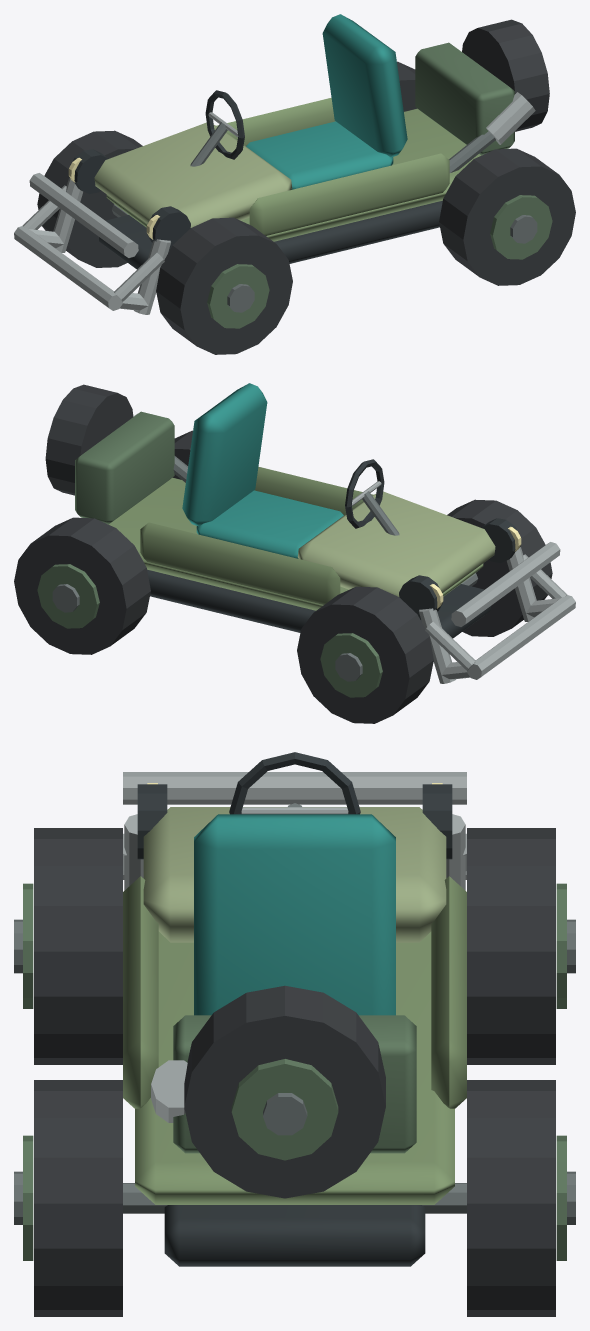
File: auto1.fbx
The picture shows the model from 3 angles, top to bottom: view 1: azimuth 30°, elevation 25°; view 2: azimuth 150°, elevation 25°; view 3: azimuth 270°, elevation 25°; orthographic projection. The views are drawn at different scales.
Visible parts, largest first — view 1: Capó frontal, Neumático trasera izquierda, Neumático delantera izquierda, Respaldo del asiento, Panel lateral izquierdo, Soporte trasero, Base del asiento, Chasis inferior, Neumático de repuesto, Neumático delantera derecha, Piso, Buje exterior delantera izquierda (+16 smaller); view 2: Capó frontal, Neumático trasera derecha, Neumático delantera derecha, Respaldo del asiento, Panel lateral derecho, Soporte trasero, Base del asiento, Chasis inferior, Neumático de repuesto, Neumático delantera izquierda, Piso, Buje exterior delantera derecha (+14 smaller); view 3: Respaldo del asiento, Neumático de repuesto, Piso, Neumático delantera derecha, Neumático delantera izquierda, Neumático trasera derecha, Neumático trasera izquierda, Chasis inferior, Capó frontal, Parachoques superior, Panel lateral derecho, Panel lateral izquierdo (+14 smaller).
Part boxes in pixels (x1,y1,x2,y2): Capó frontal: (94,122,292,227); Neumático trasera izquierda: (439,148,575,285); Neumático delantera izquierda: (156,217,292,354); Respaldo del asiento: (322,14,407,157); Panel lateral izquierdo: (249,153,449,235); Soporte trasero: (415,42,514,155); Base del asiento: (246,121,393,189); Chasis inferior: (99,200,442,269); Neumático de repuesto: (462,19,549,131); Neumático delantera derecha: (37,130,142,267); Piso: (106,108,482,241); Buje exterior delantera izquierda: (207,264,269,328); Capó frontal: (297,491,495,596); Neumático trasera derecha: (14,517,150,654); Neumático delantera derecha: (297,586,433,723); Respaldo del asiento: (182,383,267,526); Panel lateral derecho: (140,522,340,604); Soporte trasero: (75,411,174,524); Base del asiento: (196,490,343,558); Chasis inferior: (147,569,490,638); Neumático de repuesto: (45,384,133,495); Neumático delantera izquierda: (447,499,552,636); Piso: (107,477,483,610); Buje exterior delantera derecha: (320,633,382,697); Respaldo del asiento: (194,814,395,1015); Neumático de repuesto: (184,985,385,1198); Piso: (135,931,454,1204); Neumático delantera derecha: (467,828,555,1064); Neumático delantera izquierda: (34,828,122,1064); Neumático trasera derecha: (467,1080,555,1316); Neumático trasera izquierda: (34,1080,122,1316); Chasis inferior: (164,1205,425,1266); Capó frontal: (143,807,446,942); Parachoques superior: (123,772,466,804); Panel lateral derecho: (431,876,466,1108); Panel lateral izquierdo: (123,876,158,1108).
Size of the model in its own units: 333 by 152 by 190.
